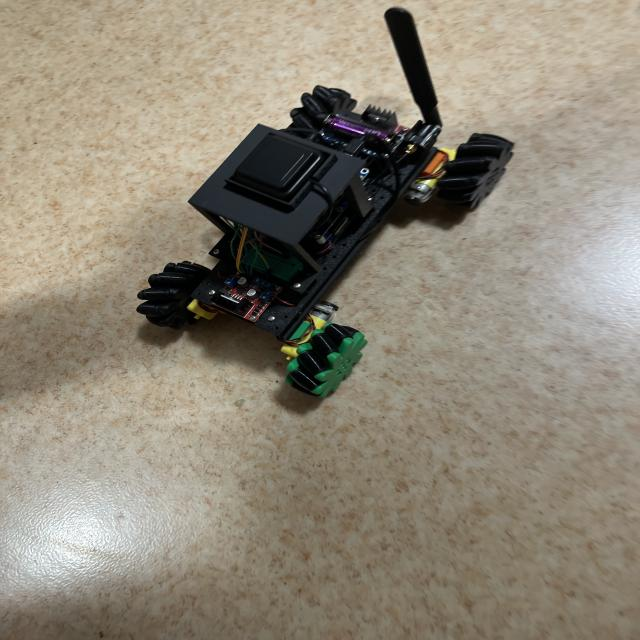robot: (137, 8, 514, 397)
